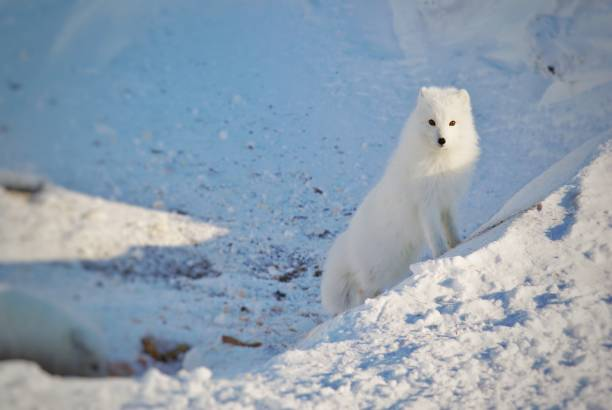arcticfox: (417, 98, 462, 160)
